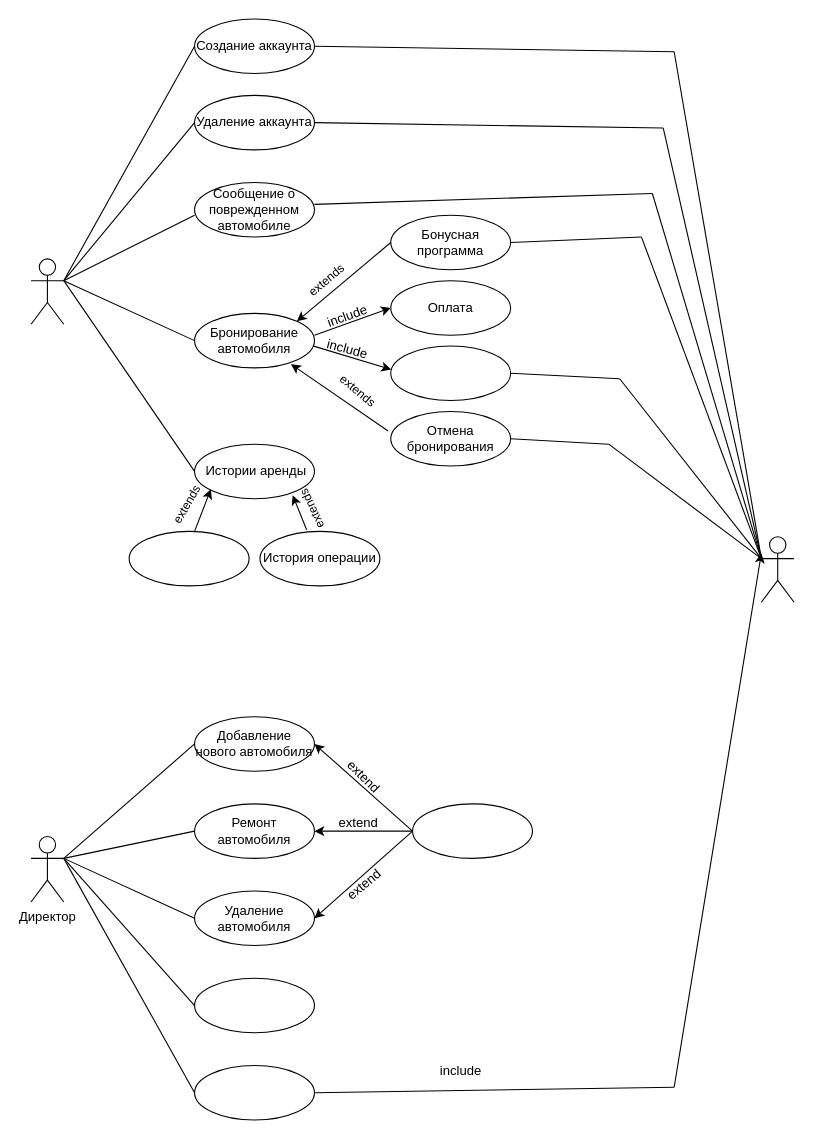
The diagram is 825 pixels wide and 1139 high, and some of its shapes have lost their labels. The shapes that lost their labels are listed below. From the top down, each one's centre as x and y in pixels, then its label:
[47,291]: клиент
[450,373]: Возврат автомобиля
[188,558]: детали о компании автомобилей
[777,569]: Оператор
[471,830]: Обновление базы данных
[253,1005]: Месячные/Годовые отчеты
[253,1092]: Зарплаты
